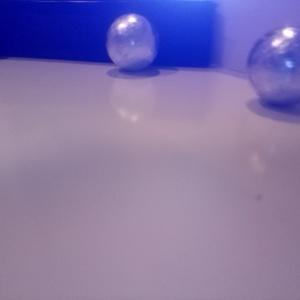alive_ball: (247, 26, 300, 105), (106, 14, 157, 72)
